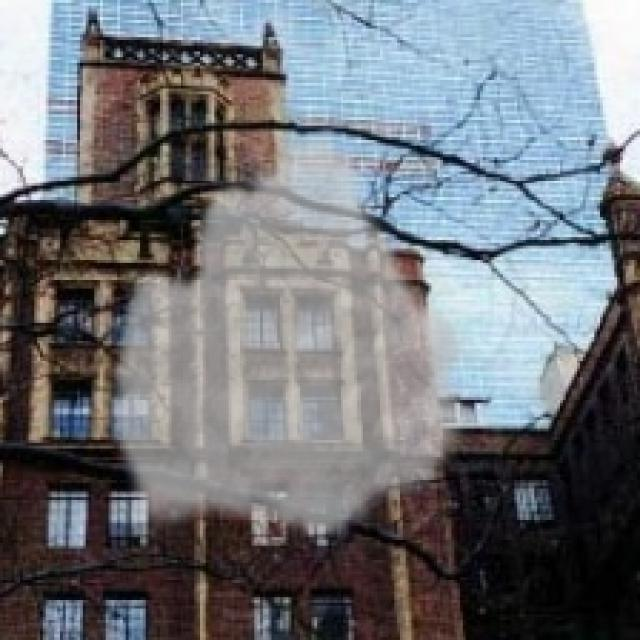Smoke: (102, 123, 478, 543)
